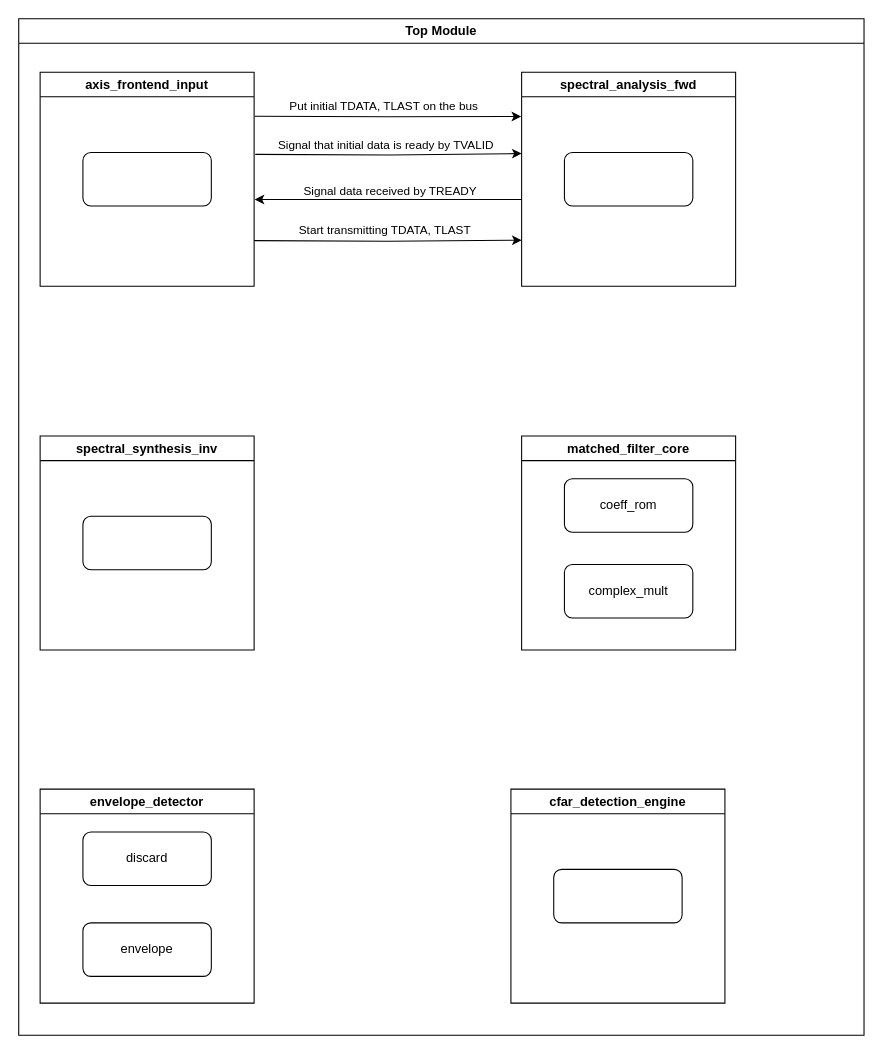
Some shapes in this 883 by 1054 pixel diagram are drawn without their labels. The centre of each missing label's shape, as x and y in pixels:
cfar: [617,895]
data_injector: [146,178]
fft_8192_analysis: [628,178]
fft_8192_synthesis: [146,542]
